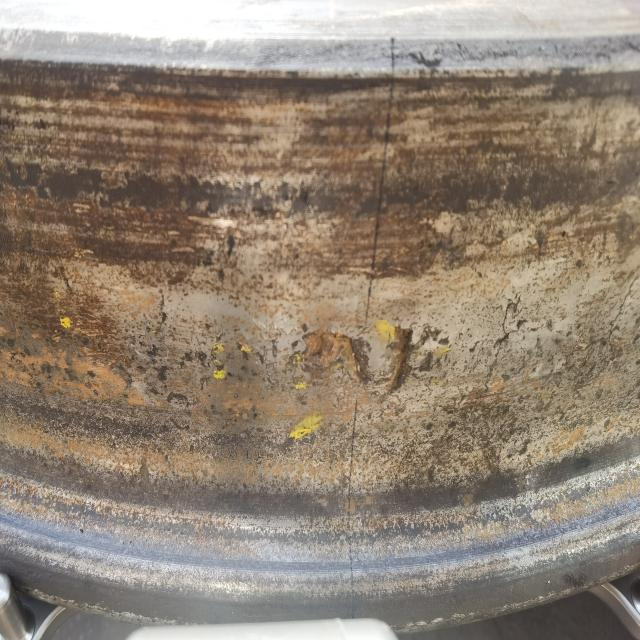Peeling: (151, 324, 210, 417), (301, 330, 365, 391), (393, 330, 448, 398)
